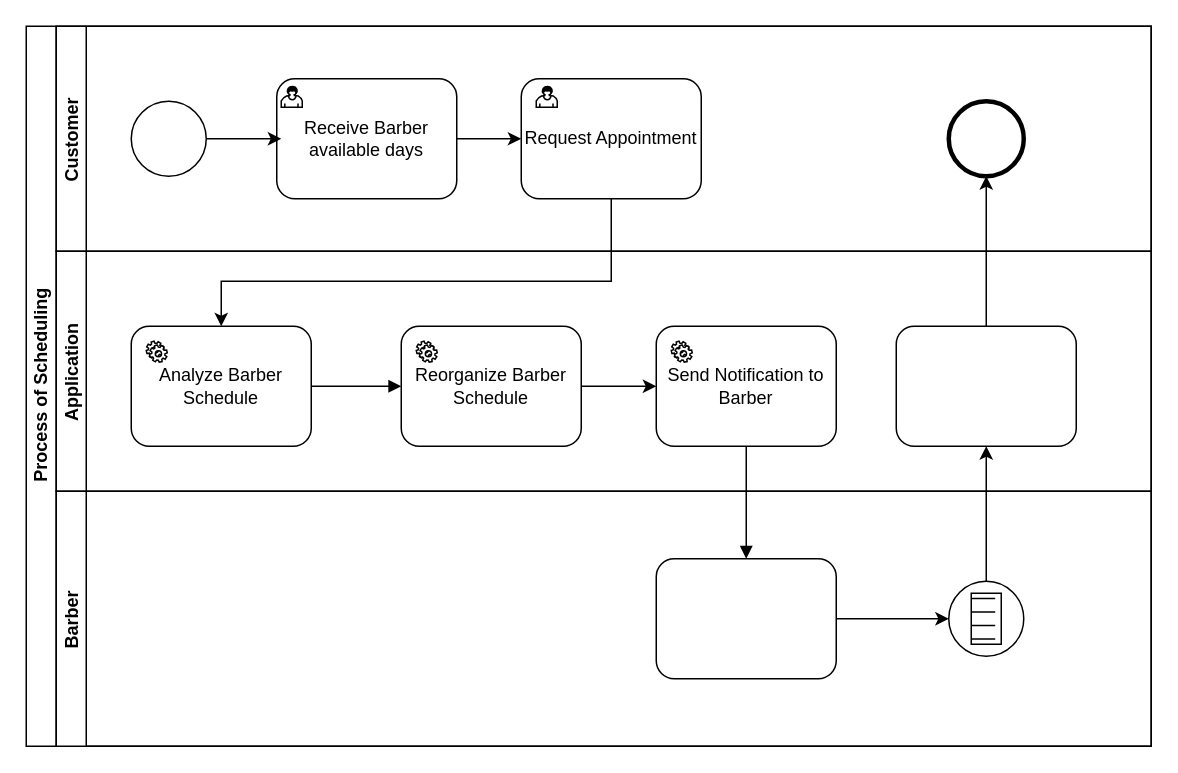
This 1178x773 diagram has some shape labels left out. The shapes that lost their labels are listed below. From the top down, each one's centre as x and y in pixels, then its label:
At (x=168, y=138): "Start".
At (x=985, y=138): "End".
At (x=985, y=385): "Send Notification to Customer".
At (x=745, y=618): "Confirm Appointment".
At (x=985, y=618): "Aproved?".
